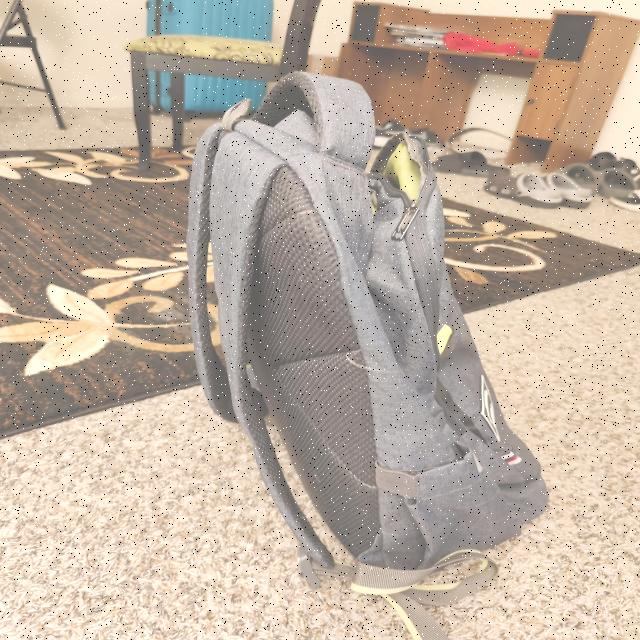bag: (183, 76, 470, 556)
